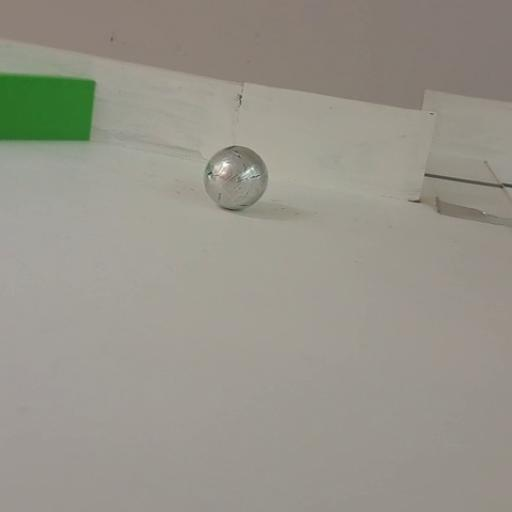alive: (202, 144, 269, 210)
